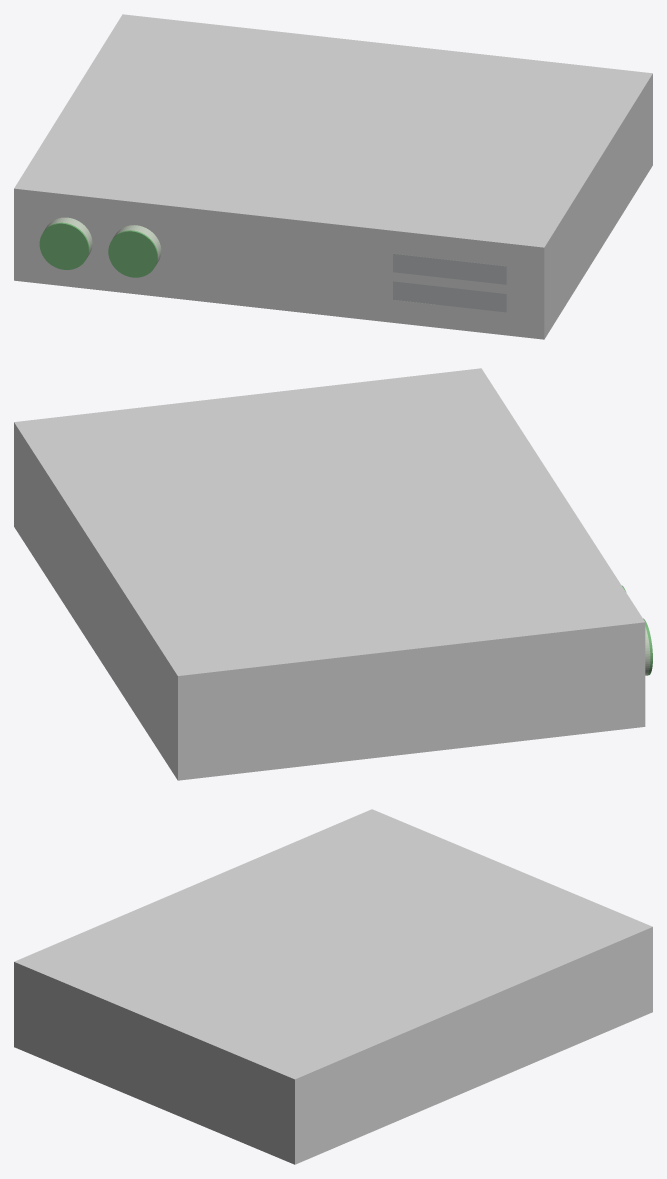
The model's file is figure3.gltf.
3 renders of one model, top to bottom at view 1: azimuth 30°, elevation 25°; view 2: azimuth 150°, elevation 25°; view 3: azimuth 270°, elevation 25°, orthographic. The views are drawn at different scales.
Parts seen in each view (by area): view 1: Mesh_Mesh_head_geo.001_lambert2SG.003; view 2: Mesh_Mesh_head_geo.001_lambert2SG.003; view 3: Mesh_Mesh_head_geo.001_lambert2SG.003.
Boxes of the visible parts, x1=… form: Mesh_Mesh_head_geo.001_lambert2SG.003: x1=14, y1=14, x2=652, y2=339; Mesh_Mesh_head_geo.001_lambert2SG.003: x1=14, y1=368, x2=652, y2=780; Mesh_Mesh_head_geo.001_lambert2SG.003: x1=14, y1=809, x2=652, y2=1164.
Size of the model in its own units: 4.56 by 0.6708 by 4.55.
